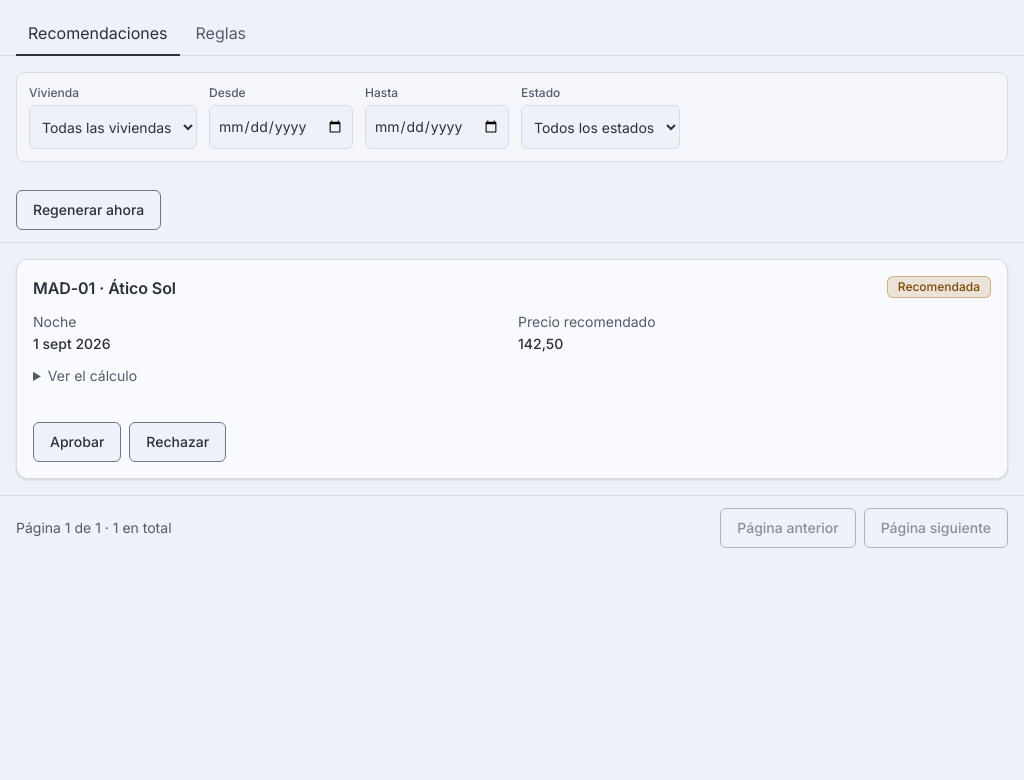
Test: PricingView — one write in flight (R3.3, R4.4, design D8) › does NOT disable the filter controls
Click the button "Aprobar".
click(77, 442)  # box x1=33 y1=422 x2=121 y2=462
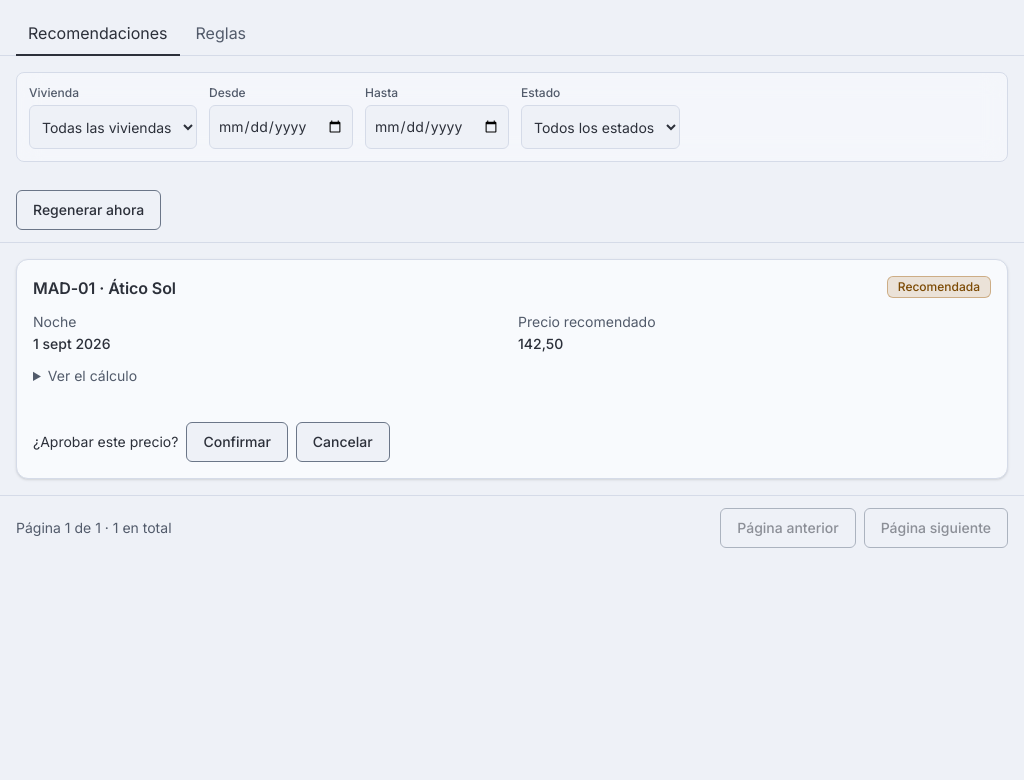
Click the button "Confirmar".
click(237, 442)  # box x1=186 y1=422 x2=288 y2=462
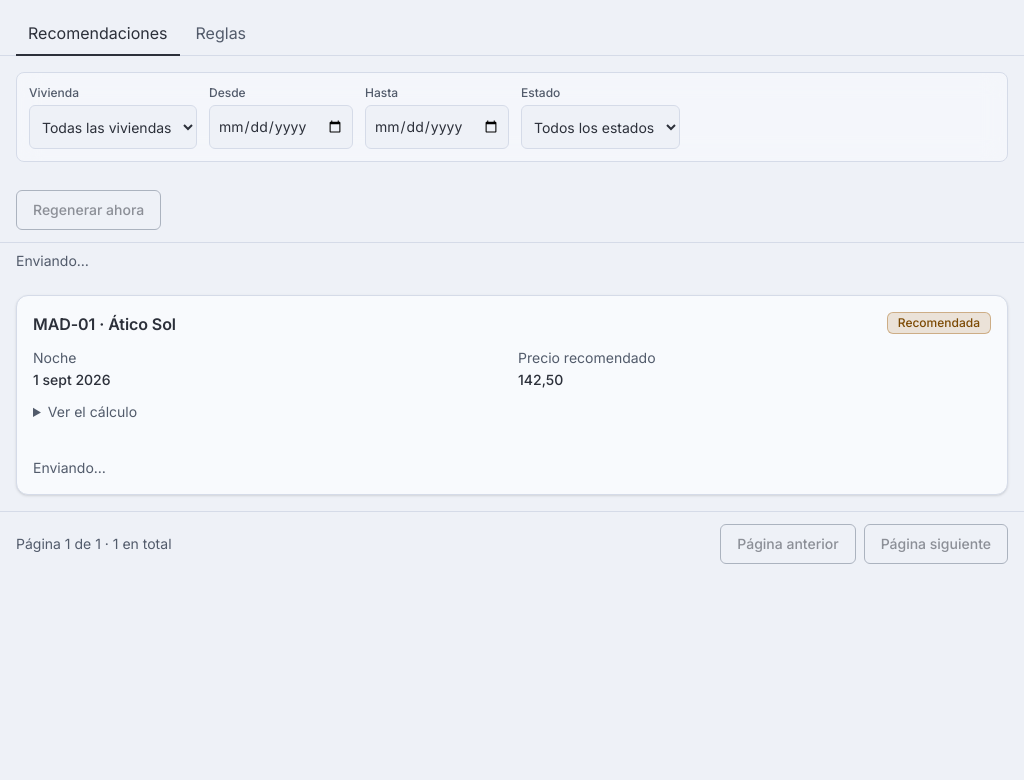
Check: the dropdown labelled "Vivienda" is enabled, box x1=29 y1=105 x2=197 y2=149
Check: the button "Regenerar ahora" is disabled, box x1=16 y1=190 x2=161 y2=230
